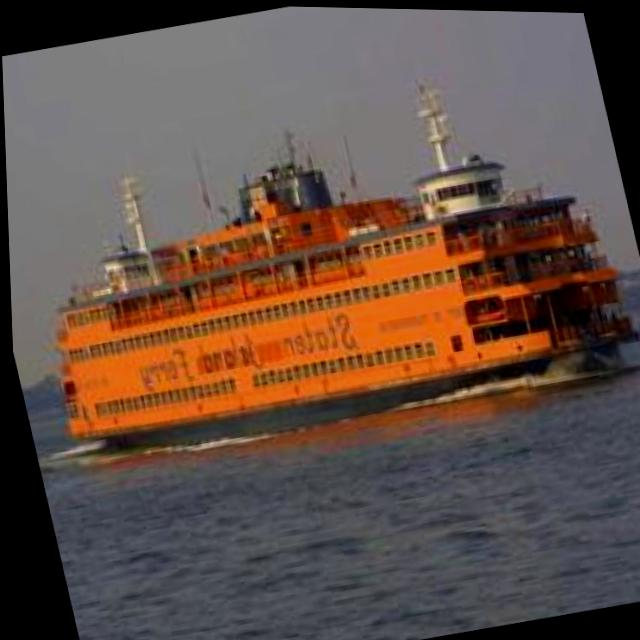ship2: (49, 84, 637, 454)
